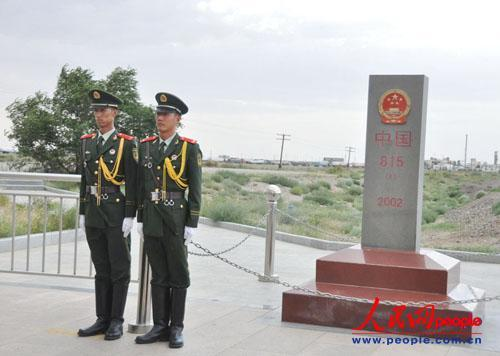up: (135, 89, 204, 352), (75, 87, 137, 343)
